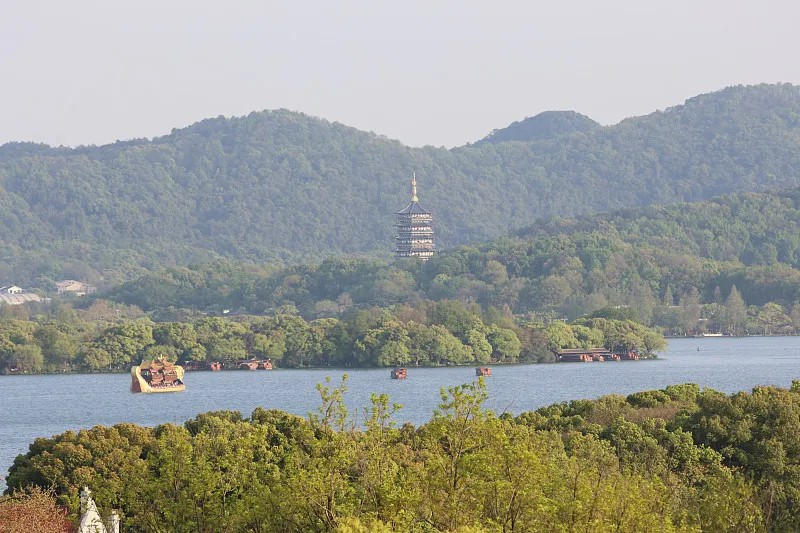Leifeng: (389, 171, 436, 265)
